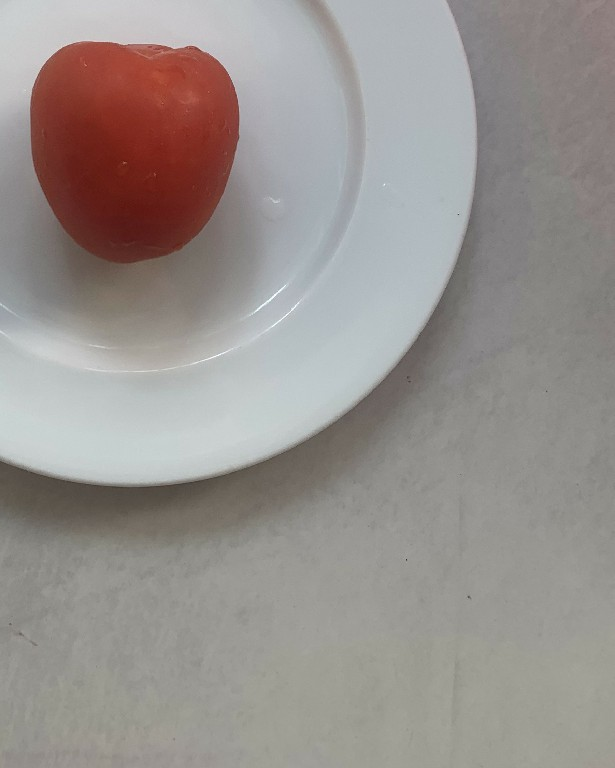OK: (31, 34, 243, 263)
